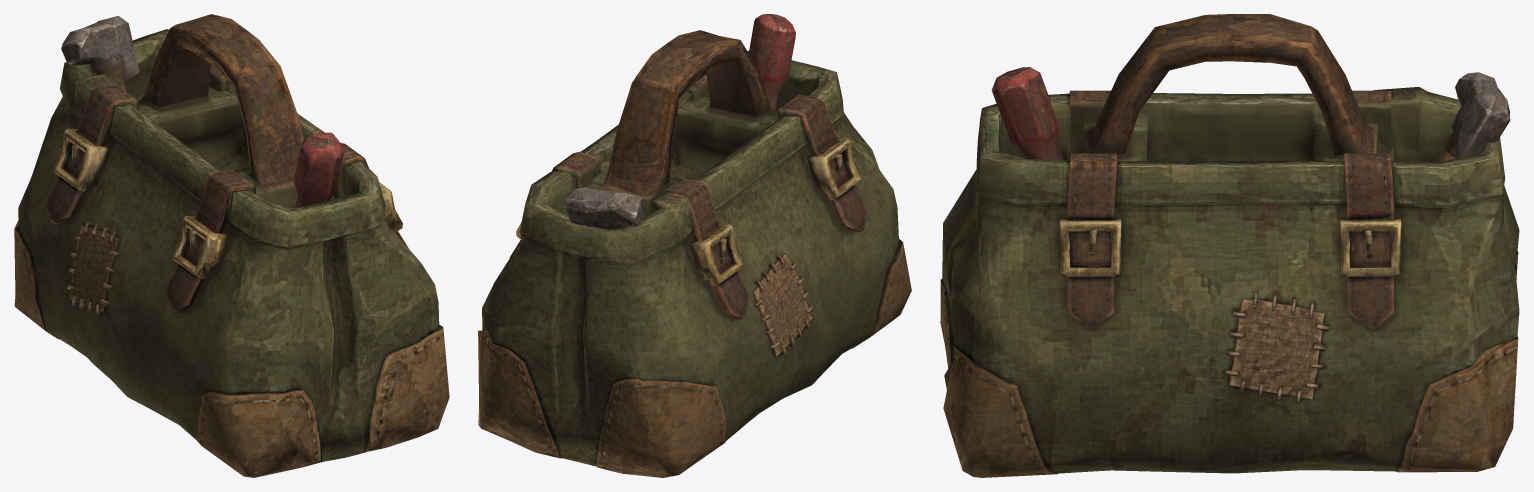
Rendered from P01_toolbag_source.fbx.
The picture shows the model from 3 angles, left to right: view 1: azimuth 30°, elevation 25°; view 2: azimuth 150°, elevation 25°; view 3: azimuth 270°, elevation 25°; orthographic projection. The views are drawn at different scales.
Parts seen in each view (by area): view 1: f1d2d588_0ca6_49df_8607_031a5a8d2514; view 2: f1d2d588_0ca6_49df_8607_031a5a8d2514; view 3: f1d2d588_0ca6_49df_8607_031a5a8d2514.
Part boxes in pixels (left/top/right/bottom): f1d2d588_0ca6_49df_8607_031a5a8d2514: left=14, top=14, right=449, bottom=477; f1d2d588_0ca6_49df_8607_031a5a8d2514: left=478, top=14, right=911, bottom=477; f1d2d588_0ca6_49df_8607_031a5a8d2514: left=940, top=14, right=1519, bottom=477.
Bounding box in the file's own units: 0.5835 × 0.7495 × 0.9741.
Materials: 1 (1 with a texture image).
